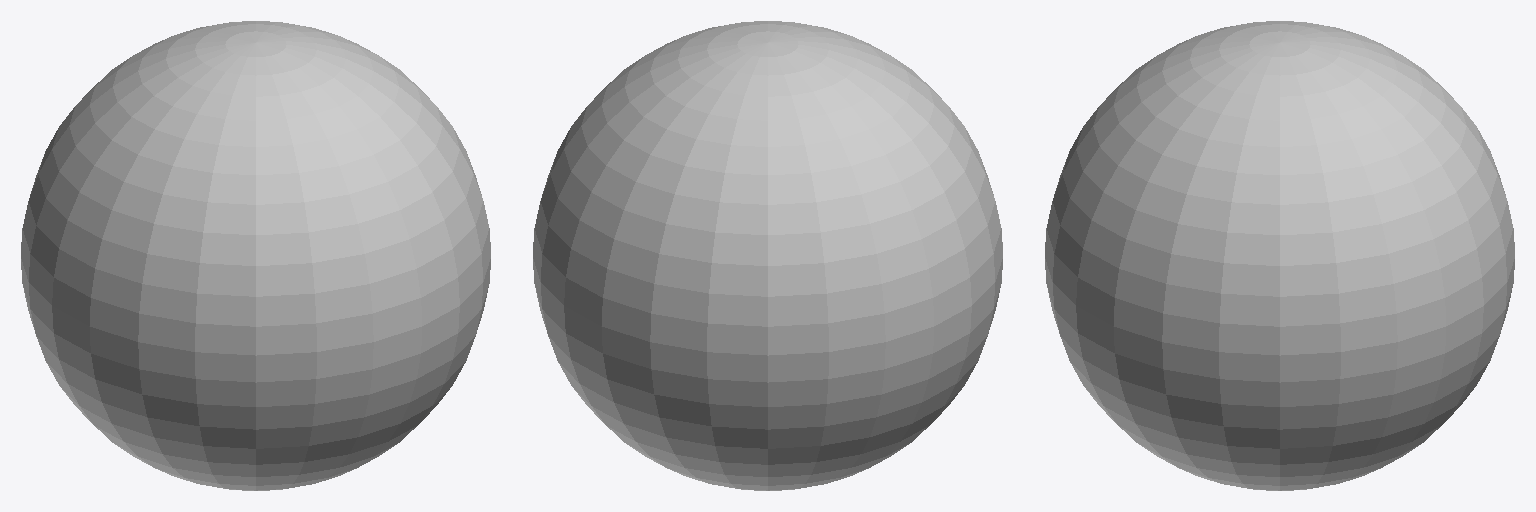
File: Sphere4Shader.obj
3 renders of one model, left to right at view 1: azimuth 30°, elevation 25°; view 2: azimuth 150°, elevation 25°; view 3: azimuth 270°, elevation 25°, orthographic.
Parts seen in each view (by area): view 1: pSphere1; view 2: pSphere1; view 3: pSphere1.
Boxes of the visible parts, x1,y1,x2,y2 form: pSphere1: [21, 21, 490, 490]; pSphere1: [533, 21, 1002, 490]; pSphere1: [1045, 21, 1514, 490].
Bounding box in the file's own units: 2 × 2 × 2.